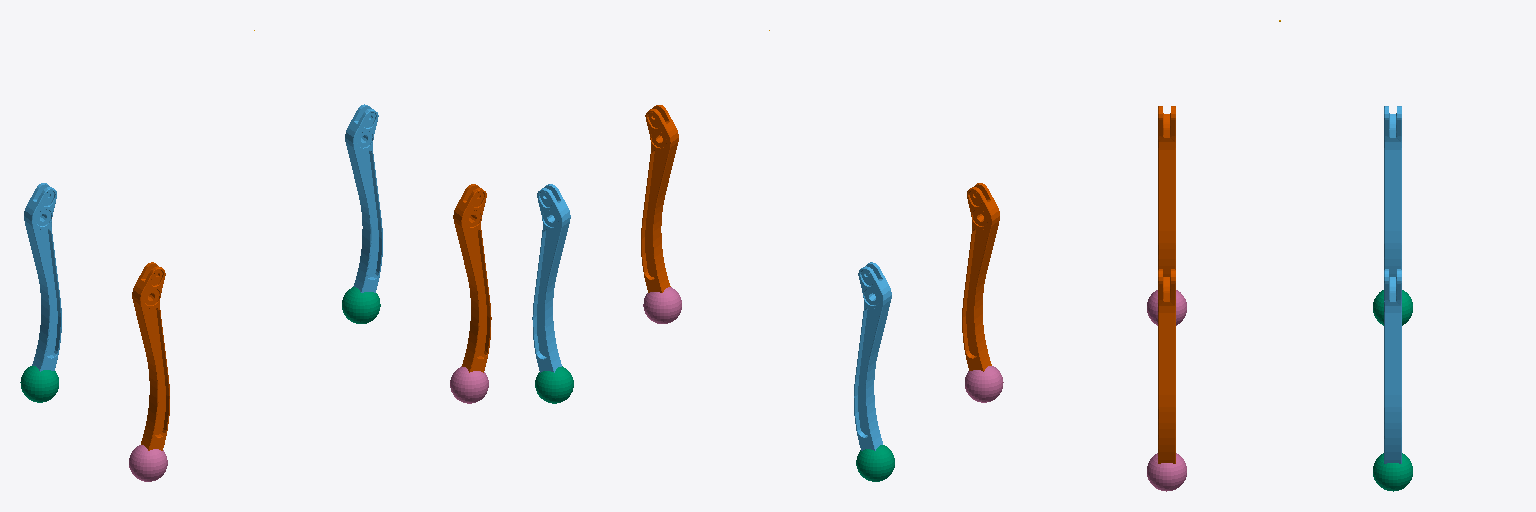
The robot description file, URDF, robot "mini_cheetah":
<?xml version="1.0" ?>
<robot name="mini_cheetah" xmlns:xacro="http://ros.org/wiki/xacro">
    
    <material name="black">
    <color rgba="0.0 0.0 0.0 1.0"/>
  </material>
  <material name="blue">
    <color rgba="0.0 0.0 0.8 1.0"/>
  </material>
  <material name="green">
    <color rgba="0.0 0.8 0.0 1.0"/>
  </material>
  <material name="grey">
    <color rgba="0.2 0.2 0.2 1.0"/>
  </material>
  <material name="silver">
    <color rgba="0.913725490196 0.913725490196 0.847058823529 1.0"/>
  </material>
  <material name="orange">
    <!-- <color rgba="1.0 0.423529411765 0.0392156862745 1.0"/> -->
    <color rgba="0.12 0.15 0.2 1.0"/>
  </material>
  <material name="brown">
    <color rgba="0.870588235294 0.811764705882 0.764705882353 1.0"/>
  </material>
  <material name="red">
    <color rgba="0.8 0.0 0.0 1.0"/>
  </material>
  <material name="white">
    <color rgba="1.0 1.0 1.0 1.0"/>
  </material>

   <link name="base">
    <visual>
      <origin rpy="0 0 0" xyz="0 0 0"/>
      <geometry>
        <box size="0.001 0.001 0.001"/>
      </geometry>
    </visual>
    <inertial>
            <mass value="3.8"/>
            <origin xyz="0.0 0.0 0.0"/>
            <inertia ixx="0.012958" ixy="0" ixz="0" iyy="0.416883" iyz="0" izz="0.049139"/>
        </inertial>
  </link>
    <joint name="floating_base" type="fixed">
        <origin rpy="0 0 0" xyz="0 0 0"/>
        <parent link="base"/>
        <child link="trunk"/>
      </joint>
    <link name="trunk">
        <visual>
            <geometry>
                <mesh filename="meshes/mini_body.obj"/>
            </geometry>
            <origin rpy="0 0.0 0" xyz="0.0 0.0 0.0"/>
        </visual>
        <!-- <collision>
            <geometry>
                <mesh filename="meshes/mini_body.obj"/>
            </geometry>
            <origin rpy="0 0 0" xyz="0 0 0"/>
        </collision> -->
        <collision>
          <origin rpy="0 0 0" xyz="0 0 0"/>
          <geometry>
            <box size="0.23 0.18 0.1"/>
          </geometry>
        </collision>
    </link>
    <joint name="imu_joint" type="fixed">
    <parent link="trunk"/>
    <child link="imu_link"/>
    <origin rpy="0 0 0" xyz="0 0 0"/>
  </joint>
  <link name="imu_link">
    <inertial>
      <mass value="0.001"/>
      <origin rpy="0 0 0" xyz="0 0 0"/>
      <inertia ixx="0.0001" ixy="0" ixz="0" iyy="0.0001" iyz="0" izz="0.0001"/>
    </inertial>
    <visual>
      <origin rpy="0 0 0" xyz="0 0 0"/>
      <geometry>
        <box size="0.001 0.001 0.001"/>
      </geometry>
      <material name="red"/>
    </visual>
   </link>

    <!--!!!!!!!!!!!! Front Right Leg !!!!!!!!!!!!!!!!!!!!!!!!!!!!!!!!!!!!-->
    <joint name="FR_hip_joint" type="revolute">
        <axis xyz="1 0 0"/>
        <origin rpy="0 0 0" xyz="0.19 -0.049 0.0"/>
        <parent link="trunk"/>
        <child link="FR_hip"/>
        <!-- <actuator gear_ratio="6" voltage="24">
          <friction damping="0.01" dry_friction="0.2"/>
          <motor Kt="0.05" R="0.173" TauMax="3"/>
          <rotor_inertia ixx="33.0e-6" iyy="0.000033" izz="63e-6" iyz="0.0" ixy="0" ixz="0" />
        </actuator> -->
        <dynamics damping="0" friction="0"/>
        <limit effort="18" lower="-1.6" upper="1.6" velocity="40"/>

    </joint>
    <link name="FR_hip">
        <inertial>
            <mass value="0.54"/>
            <origin xyz="0.0 0.036 0."/>
            <inertia ixx="0.000381" ixy="0.000058" ixz="0.00000045" 
                iyy="0.000560" iyz="0.00000095" izz="0.000444"/>
        </inertial>
        <visual>
            <geometry>
                <mesh filename="meshes/mini_abad.obj"/>
            </geometry>
            <origin rpy="3.141592 0.0 1.5708" xyz="-0.055 0.0 0.0"/>
        </visual>
        <collision>
            <geometry>
                <mesh filename="meshes/mini_abad.obj"/>
            </geometry>
            <origin rpy="3.141592 0 1.5708" xyz="-0.055 0 0"/>
        </collision>
    </link>

    <joint name="FR_thigh_joint" type="revolute">
        <axis xyz="0 -1 0"/>
        <origin rpy="0.0 0.0 0.0" xyz="0.0 -0.062 0.00"/>
        <parent link="FR_hip"/>
        <child link="FR_thigh"/>
        <dynamics damping="0" friction="0"/>
        <limit effort="18" lower="-2.6" upper="2.6" velocity="40"/>
    </joint>
    <link name="FR_thigh">
        <inertial>
            <mass value="2.136"/>
            <origin xyz="0.0 0.016 -0.02"/>
            <inertia ixx="0.006681" ixy="0.000825" ixz="0.000044" 
                iyy="0.007085" iyz="0.0000051" izz="0.001375"/>
        </inertial>
        <visual>
            <geometry>
                <mesh filename="meshes/mini_upper_link.obj"/>
            </geometry>
            <origin rpy="0.0 -1.5708 0" xyz="0.0 0.0 0.0"/>
        </visual>
        <collision>
          <origin rpy="0 1.57079632679 0" xyz="0 0 -0.105"/>
          <geometry>
            <box size="0.17 0.015 0.030"/>
          </geometry>
        </collision>
    </link>

    <joint name="FR_calf_joint" type="revolute">
        <axis xyz="0 -1 0"/>
        <origin rpy="0.0 0 0.0" xyz="0.0 0.0 -0.209"/>
        <parent link="FR_thigh"/>
        <child link="FR_calf"/>
        <dynamics damping="0" friction="0"/>
        <limit effort="26" lower="-2.6" upper="2.6" velocity="26"/>
    </joint>
    <link name="FR_calf">
        <inertial>
            <mass value="0.064"/>
            <origin xyz="0.0 0.0 -0.209"/>
            <inertia ixx="0.000245" ixy="0" ixz="0.0" iyy="0.000248" iyz="0" izz="0.000006"/>
        </inertial>
        <visual>
            <geometry>
                <mesh filename="meshes/mini_calf_collision.STL" scale="1 1 1"/>
            </geometry>
            <origin rpy="0 0 0" xyz="0 0 0"/>
        </visual>
        <collision>
            <geometry>
                <!-- SolidWorks STL: meters; CAD +X mapped to calf -Z. -->
                <mesh filename="meshes/mini_calf_collision.STL" scale="1 1 1"/>
            </geometry>
            <origin rpy="0 0 0" xyz="0 0 0"/>
        </collision>
    </link>

    <joint name="FR_foot_fixed" type="fixed">
        <parent link="FR_calf"/>
        <child link="FR_foot"/>
        <origin rpy="0 0 0" xyz="0 0 -0.19"/>
    </joint>
    <link name="FR_foot">
        <inertial>
            <mass value="0.06"/>
            <origin xyz="0 0 0"/>
            <inertia ixx="9.6e-06" ixy="0" ixz="0" iyy="9.6e-06" iyz="0" izz="9.6e-06"/>
        </inertial>
        <visual>
            <geometry>
                <sphere radius="0.020"/>
            </geometry>
            <origin rpy="0 0 0" xyz="0 0 0"/>
        </visual>
        <collision>
            <geometry>
                <sphere radius="0.020"/>
            </geometry>
            <origin rpy="0 0 0" xyz="0 0 0"/>
        </collision>
    </link>

<!--!!!!!!!!!!!! Front Left Leg !!!!!!!!!!!!!!!!!!!!!!!!!!!!!!!!!!!!-->
    <joint name="FL_hip_joint" type="revolute">
        <axis xyz="1 0 0"/>
        <origin rpy="0 0 0" xyz="0.19 0.049 0.0"/>
        <parent link="trunk"/>
        <child link="FL_hip"/>
        <dynamics damping="0" friction="0"/>
        <limit effort="18" lower="-1.6" upper="1.6" velocity="40"/>
    </joint>
    <link name="FL_hip">
        <inertial>
            <mass value="0.54"/>
            <origin xyz="0.0 0.036 0."/>
            <inertia ixx="0.000381" ixy="0.000058" ixz="0.00000045" 
                iyy="0.000560" iyz="0.00000095" izz="0.000444"/>
        </inertial>
        <visual>
            <geometry>
                <mesh filename="meshes/mini_abad.obj"/>
            </geometry>
            <origin rpy="0. 0. -1.5708" xyz="-0.055 0.0 0.0"/>
        </visual>
        <collision>
            <geometry>
                <mesh filename="meshes/mini_abad.obj"/>
            </geometry>
            <origin rpy="0 0 -1.5708" xyz="-0.055 0 0"/>
        </collision>
    </link>

    <joint name="FL_thigh_joint" type="revolute">
        <axis xyz="0 -1 0"/>
        <origin rpy="0.0 0.0 0.0" xyz="0.0 0.062 0.00"/>
        <parent link="FL_hip"/>
        <child link="FL_thigh"/>
        <dynamics damping="0" friction="0"/>
        <limit effort="18" lower="-2.6" upper="2.6" velocity="40"/>
    </joint>
    <link name="FL_thigh">
        <inertial>
            <mass value="2.136"/>
            <origin xyz="0.0 0.016 -0.02"/>
            <inertia ixx="0.006681" ixy="0.000825" ixz="0.000044" 
                iyy="0.007085" iyz="0.0000051" izz="0.001375"/>
        </inertial>
        <visual>
            <geometry>
                <mesh filename="meshes/mini_upper_link.obj"/>
            </geometry>
            <origin rpy="0.0 -1.5708 0.0" xyz="0.0 0.0 0.0"/>
        </visual>
        <collision>
          <origin rpy="0 1.57079632679 0" xyz="0 0 -0.105"/>
          <geometry>
            <box size="0.17 0.015 0.030"/>
          </geometry>
        </collision>
    </link>

    <joint name="FL_calf_joint" type="revolute">
        <axis xyz="0 -1 0"/>
        <origin rpy="0.0 0 0.0" xyz="0.0 0.0 -0.209"/>
        <parent link="FL_thigh"/>
        <child link="FL_calf"/>
        <dynamics damping="0" friction="0"/>
        <limit effort="26" lower="-2.6" upper="2.6" velocity="26"/>
    </joint>
    <link name="FL_calf">
        <inertial>
            <mass value="0.064"/>
            <origin xyz="0.0 0.0 -0.209"/>
            <inertia ixx="0.000245" ixy="0" ixz="0.0" iyy="0.000248" iyz="0" izz="0.000006"/>
        </inertial>
        <visual>
            <geometry>
                <mesh filename="meshes/mini_calf_collision.STL" scale="1 1 1"/>
            </geometry>
            <origin rpy="0 0 0" xyz="0 0 0"/>
        </visual>
        <collision>
            <geometry>
                <mesh filename="meshes/mini_calf_collision.STL" scale="1 1 1"/>
            </geometry>
            <origin rpy="0 0 0" xyz="0 0 0"/>
        </collision>
    </link>

    <joint name="FL_foot_fixed" type="fixed">
        <parent link="FL_calf"/>
        <child link="FL_foot"/>
        <origin rpy="0 0 0" xyz="0 0 -0.19"/>
    </joint>
    <link name="FL_foot">
        <inertial>
            <mass value="0.06"/>
            <origin xyz="0 0 0"/>
            <inertia ixx="9.6e-06" ixy="0" ixz="0" iyy="9.6e-06" iyz="0" izz="9.6e-06"/>
        </inertial>
        <visual>
            <geometry>
                <sphere radius="0.020"/>
            </geometry>
            <origin rpy="0 0 0" xyz="0 0 0"/>
        </visual>
        <collision>
            <geometry>
                <sphere radius="0.020"/>
            </geometry>
            <origin rpy="0 0 0" xyz="0 0 0"/>
        </collision>
    </link>

<!--!!!!!!!!!!!! Hind Right Leg !!!!!!!!!!!!!!!!!!!!!!!!!!!!!!!!!!!!-->
    <joint name="RR_hip_joint" type="revolute">
        <axis xyz="1 0 0"/>
        <origin rpy="0 0 0" xyz="-0.19 -0.049 0.0"/>
        <parent link="trunk"/>
        <child link="RR_hip"/>
        <dynamics damping="0" friction="0"/>
        <limit effort="18" lower="-1.6" upper="1.6" velocity="40"/>
    </joint>
    <link name="RR_hip">
        <inertial>
            <mass value="0.54"/>
            <origin xyz="0.0 0.036 0."/>
            <inertia ixx="0.000381" ixy="0.000058" ixz="0.00000045" 
                iyy="0.000560" iyz="0.00000095" izz="0.000444"/>
        </inertial>
        <visual>
            <geometry>
                <mesh filename="meshes/mini_abad.obj"/>
            </geometry>
            <origin rpy="0.0 0.0 1.5708" xyz="0.055 0.0 0.0"/>
        </visual>
        <collision>
            <geometry>
                <mesh filename="meshes/mini_abad.obj"/>
            </geometry>
            <origin rpy="0 0 1.5708" xyz="0.055 0 0"/>
        </collision>
    </link>

    <joint name="RR_thigh_joint" type="revolute">
        <axis xyz="0 -1 0"/>
        <origin rpy="0.0 0.0 0.0" xyz="0.0 -0.062 0.00"/>
        <parent link="RR_hip"/>
        <child link="RR_thigh"/>
        <dynamics damping="0" friction="0"/>
        <limit effort="18" lower="-2.6" upper="2.6" velocity="40"/>
    </joint>
    <link name="RR_thigh">
        <inertial>
            <mass value="2.136"/>
            <origin xyz="0.0 0.016 -0.02"/>
            <inertia ixx="0.006681" ixy="0.000825" ixz="0.000044" 
                iyy="0.007085" iyz="0.0000051" izz="0.001375"/>
        </inertial>
        <visual>
            <geometry>
                <mesh filename="meshes/mini_upper_link.obj"/>
            </geometry>
            <origin rpy="0.0 -1.5708 0.0" xyz="0.0 0.0 0.0"/>
        </visual>
        <!-- <collision>
            <geometry>
                <mesh filename="meshes/mini_upper_link.obj"/>
            </geometry>
            <origin rpy="0 -1.5708 0.0" xyz="0 0 0"/>
        </collision> -->
        <collision>
          <origin rpy="0 1.57079632679 0" xyz="0 0 -0.105"/>
          <geometry>
            <box size="0.17 0.015 0.030"/>
          </geometry>
        </collision>
    </link>

    <joint name="RR_calf_joint" type="revolute">
        <axis xyz="0 -1 0"/>
        <origin rpy="0.0 0 0.0" xyz="0.0 0.0 -0.209"/>
        <parent link="RR_thigh"/>
        <child link="RR_calf"/>
        <dynamics damping="0" friction="0"/>
        <limit effort="26" lower="-2.6" upper="2.6" velocity="26"/>
    </joint>
    <link name="RR_calf">
        <inertial>
            <mass value="0.064"/>
            <origin xyz="0.0 0.0 -0.209"/>
            <inertia ixx="0.000245" ixy="0" ixz="0.0" iyy="0.000248" iyz="0" izz="0.000006"/>
        </inertial>
        <visual>
            <geometry>
                <mesh filename="meshes/mini_calf_collision.STL" scale="1 1 1"/>
            </geometry>
            <origin rpy="0 0 0" xyz="0 0 0"/>
        </visual>
        <collision>
            <geometry>
                <mesh filename="meshes/mini_calf_collision.STL" scale="1 1 1"/>
            </geometry>
            <origin rpy="0 0 0" xyz="0 0 0"/>
        </collision>
    </link>

    <joint name="RR_foot_fixed" type="fixed">
        <parent link="RR_calf"/>
        <child link="RR_foot"/>
        <origin rpy="0 0 0" xyz="0 0 -0.19"/>
    </joint>
    <link name="RR_foot">
        <inertial>
            <mass value="0.06"/>
            <origin xyz="0 0 0"/>
            <inertia ixx="9.6e-06" ixy="0" ixz="0" iyy="9.6e-06" iyz="0" izz="9.6e-06"/>
        </inertial>
        <visual>
            <geometry>
                <sphere radius="0.020"/>
            </geometry>
            <origin rpy="0 0 0" xyz="0 0 0"/>
        </visual>
        <collision>
            <geometry>
                <sphere radius="0.020"/>
            </geometry>
            <origin rpy="0 0 0" xyz="0 0 0"/>
        </collision>
    </link>

<!--!!!!!!!!!!!! Hind Left Leg !!!!!!!!!!!!!!!!!!!!!!!!!!!!!!!!!!!!-->
    <joint name="RL_hip_joint" type="revolute">
        <axis xyz="1 0 0"/>
        <origin rpy="0 0 0" xyz="-0.19 0.049 0.0"/>
        <parent link="trunk"/>
        <child link="RL_hip"/>
        <dynamics damping="0" friction="0"/>
        <limit effort="18" lower="-1.6" upper="1.6" velocity="40"/>
    </joint>
    <link name="RL_hip">
        <inertial>
            <mass value="0.54"/>
            <origin xyz="0.0 0.036 0."/>
            <inertia ixx="0.000381" ixy="0.000058" ixz="0.00000045" 
                iyy="0.000560" iyz="0.00000095" izz="0.000444"/>
        </inertial>
        <visual>
            <geometry>
                <mesh filename="meshes/mini_abad.obj"/>
            </geometry>
            <origin rpy="3.141592 0.0 -1.5708" xyz="0.055 0.0 0.0"/>
        </visual>
        <collision>
            <geometry>
                <mesh filename="meshes/mini_abad.obj"/>
            </geometry>
            <origin rpy="3.141592 0 -1.5708" xyz="0.055 0 0"/>
        </collision>
    </link>

    <joint name="RL_thigh_joint" type="revolute">
        <axis xyz="0 -1 0"/>
        <origin rpy="0.0 0.0 0.0" xyz="0.0 0.062 0.00"/>
        <parent link="RL_hip"/>
        <child link="RL_thigh"/>
        <dynamics damping="0" friction="0"/>
        <limit effort="18" lower="-2.6" upper="2.6" velocity="40"/>
    </joint>
    <link name="RL_thigh">
        <inertial>
            <mass value="2.136"/>
            <origin xyz="0.0 0.016 -0.02"/>
            <inertia ixx="0.006681" ixy="0.000825" ixz="0.000044" 
                iyy="0.007085" iyz="0.0000051" izz="0.001375"/>
        </inertial>
        <visual>
            <geometry>
                <mesh filename="meshes/mini_upper_link.obj"/>
            </geometry>
            <origin rpy="0.0 -1.5708 0.0" xyz="0.0 0.0 0.0"/>
        </visual>
        <!-- <collision>
            <geometry>
                <mesh filename="meshes/mini_upper_link.obj"/>
            </geometry>
            <origin rpy="0 -1.5708 0.0" xyz="0 0 0"/>
        </collision> -->
        <collision>
          <origin rpy="0 1.57079632679 0" xyz="0 0 -0.105"/>
          <geometry>
            <box size="0.17 0.015 0.030"/>
          </geometry>
        </collision>
    </link>

    <joint name="RL_calf_joint" type="revolute">
        <axis xyz="0 -1 0"/>
        <origin rpy="0.0 0 0.0" xyz="0.0 0.0 -0.209"/>
        <parent link="RL_thigh"/>
        <child link="RL_calf"/>
        <dynamics damping="0" friction="0"/>
        <limit effort="26" lower="-2.6" upper="2.6" velocity="26"/>
    </joint>
    <link name="RL_calf">
        <inertial>
            <mass value="0.064"/>
            <origin xyz="0.0 0.0 -0.209"/>
            <inertia ixx="0.000245" ixy="0" ixz="0.0" iyy="0.000248" iyz="0" izz="0.000006"/>
        </inertial>
        <visual>
            <geometry>
                <mesh filename="meshes/mini_calf_collision.STL" scale="1 1 1"/>
            </geometry>
            <origin rpy="0 0 0" xyz="0 0 0"/>
        </visual>
        <collision>
            <geometry>
                <mesh filename="meshes/mini_calf_collision.STL" scale="1 1 1"/>
            </geometry>
            <origin rpy="0 0 0" xyz="0 0 0"/>
        </collision>
    </link>

    <joint name="RL_foot_fixed" type="fixed">
        <parent link="RL_calf"/>
        <child link="RL_foot"/>
        <origin rpy="0 0 0" xyz="0 0 -0.19"/>
    </joint>
    <link name="RL_foot">
        <inertial>
            <mass value="0.06"/>
            <origin xyz="0 0 0"/>
            <inertia ixx="9.6e-06" ixy="0" ixz="0" iyy="9.6e-06" iyz="0" izz="9.6e-06"/>
        </inertial>
        <visual>
            <geometry>
                <sphere radius="0.020"/>
            </geometry>
            <origin rpy="0 0 0" xyz="0 0 0"/>
        </visual>
        <collision>
            <geometry>
                <sphere radius="0.020"/>
            </geometry>
            <origin rpy="0 0 0" xyz="0 0 0"/>
        </collision>
    </link>

</robot>

--- Facts derived from the render (not from the file) ---
Views: 3 orthographic renders of the robot side by side, from view 1: azimuth 30°, elevation 25°; view 2: azimuth 150°, elevation 25°; view 3: azimuth 270°, elevation 25°.
Robot: mini_cheetah — 19 links, 18 joints (12 revolute, 6 fixed); root link base; default pose: every joint at zero.
Visible links, largest first — view 1: RL_calf, FL_calf, RR_calf, FR_calf, FR_foot, RR_foot, RL_foot, FL_foot; view 2: RR_calf, FR_calf, RL_calf, FL_calf, FL_foot, RL_foot, RR_foot, FR_foot; view 3: FR_calf, FL_calf, RR_calf, RL_calf, FR_foot, FL_foot, RR_foot, RL_foot.
Link boxes in pixels (bbox=[...]): RL_calf: bbox=[24, 183, 61, 371]; FL_calf: bbox=[345, 104, 382, 292]; RR_calf: bbox=[132, 262, 169, 450]; FR_calf: bbox=[453, 184, 491, 372]; FR_foot: bbox=[450, 366, 488, 403]; RR_foot: bbox=[129, 445, 167, 481]; RL_foot: bbox=[20, 366, 58, 402]; FL_foot: bbox=[342, 287, 380, 323]; RR_calf: bbox=[962, 183, 999, 371]; FR_calf: bbox=[641, 105, 678, 292]; RL_calf: bbox=[854, 262, 891, 450]; FL_calf: bbox=[532, 184, 570, 372]; FL_foot: bbox=[535, 366, 573, 403]; RL_foot: bbox=[856, 445, 894, 481]; RR_foot: bbox=[965, 366, 1003, 402]; FR_foot: bbox=[643, 287, 681, 323]; FR_calf: bbox=[1158, 269, 1175, 463]; FL_calf: bbox=[1384, 269, 1401, 463]; RR_calf: bbox=[1158, 106, 1175, 276]; RL_calf: bbox=[1384, 106, 1401, 276]; FR_foot: bbox=[1147, 453, 1186, 491]; FL_foot: bbox=[1373, 453, 1412, 491]; RR_foot: bbox=[1147, 290, 1186, 325]; RL_foot: bbox=[1373, 290, 1412, 325].
Size in the robot's own frame: 0.4214 by 0.262 by 0.4195 metres.
4 mesh visuals loaded from 4 distinct referenced files (1 binary STL); not drawn: 9 (reference not matched to a file when rendering).
